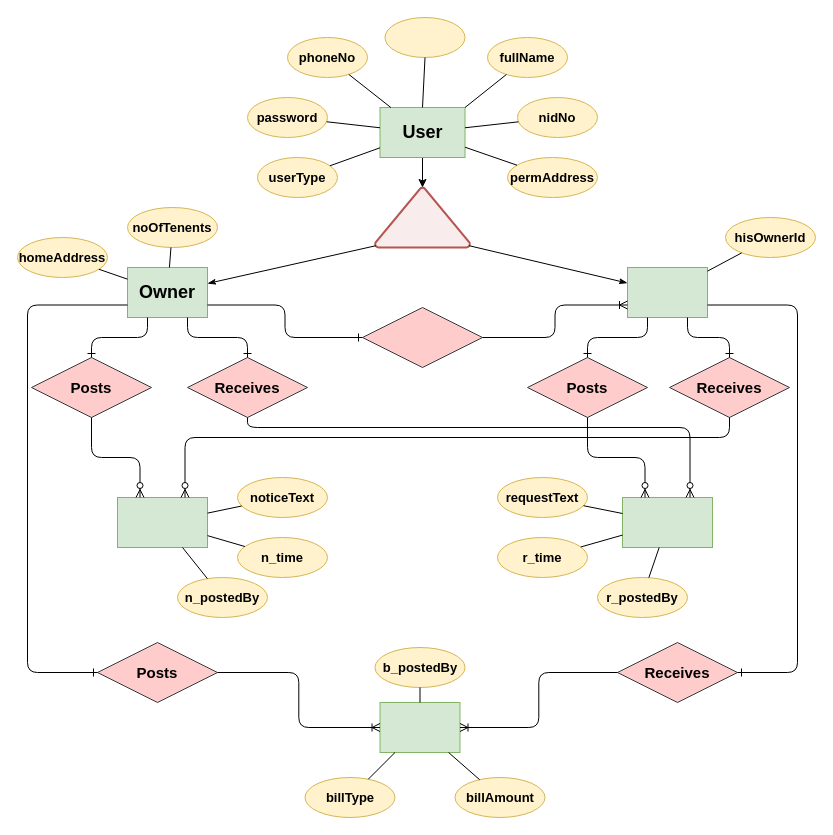
Image size: 833x835. Some labels were removed from this diagram. Each missing label, with the centre of its shape:
"Bill" goes at pixel 419 727.
"Connects to" goes at pixel 422 337.
"IS A" goes at pixel 422 217.
"Notice" goes at pixel 162 522.
"Request" goes at pixel 667 522.
"Tenant" goes at pixel 667 292.
"userId" goes at pixel 424 37.
